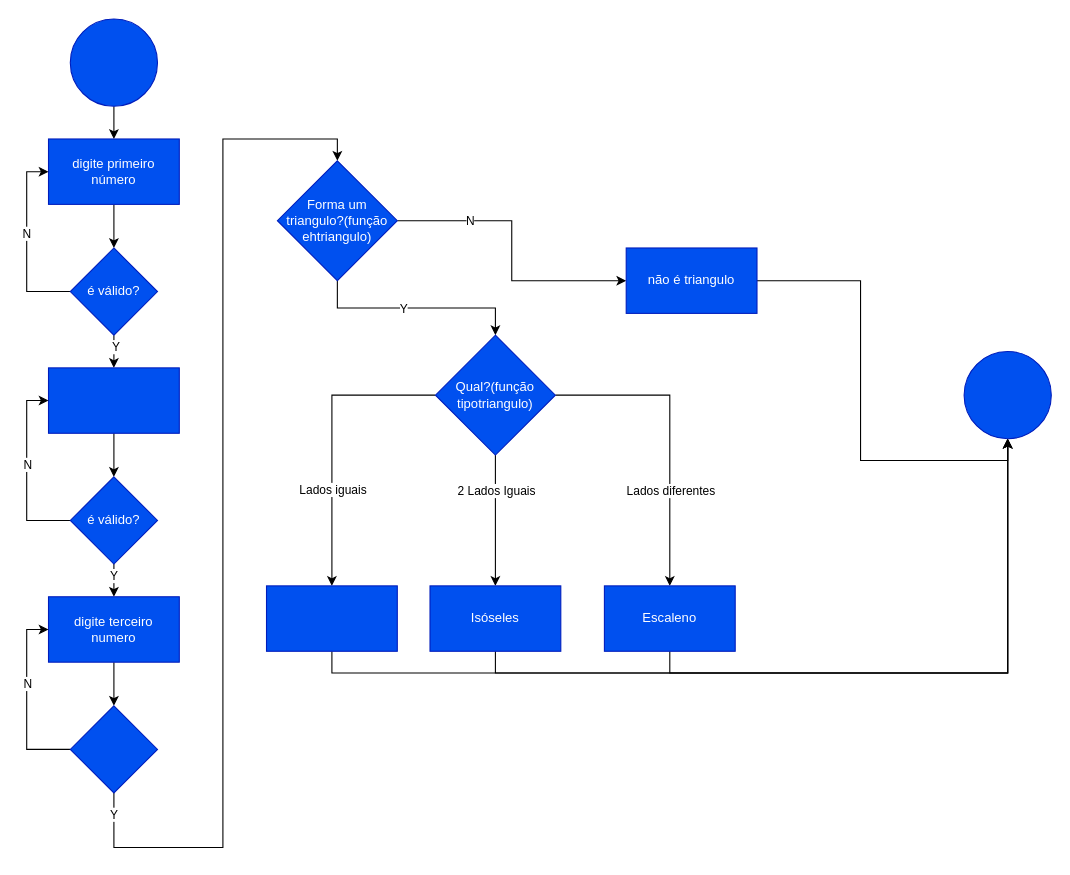
This 1070x875 diagram has some shape labels left out. The centre of each missing label's shape, as x and y in pixels:
digite segundo número: (113,400)
equilátero: (331,618)
Fim: (1007,394)
Início: (113,62)
é valido?: (113,749)
